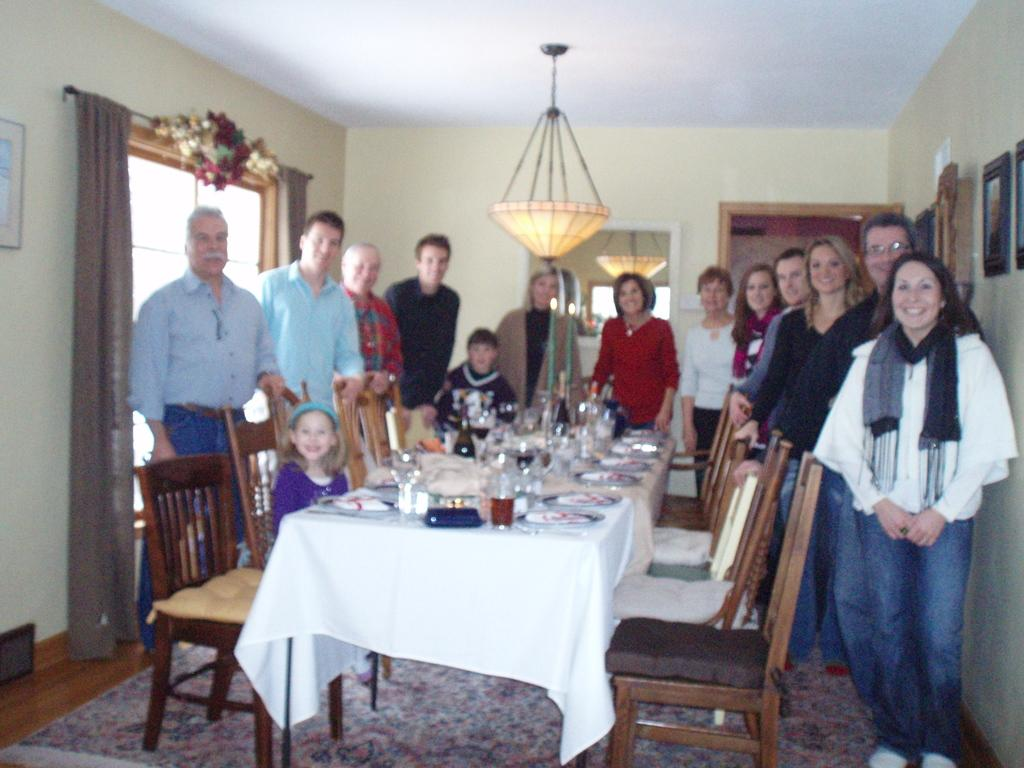Chair: (604, 448, 822, 767), (134, 452, 344, 767)
